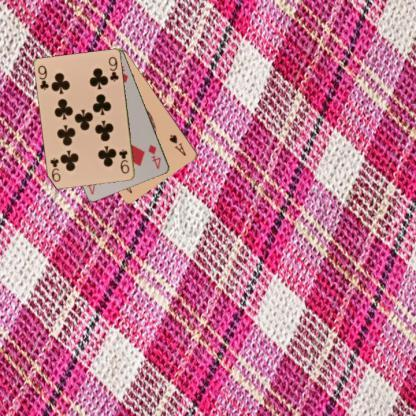4d: (146, 142, 162, 171)
9c: (116, 146, 131, 176), (36, 63, 50, 92)
As: (167, 132, 188, 157)
